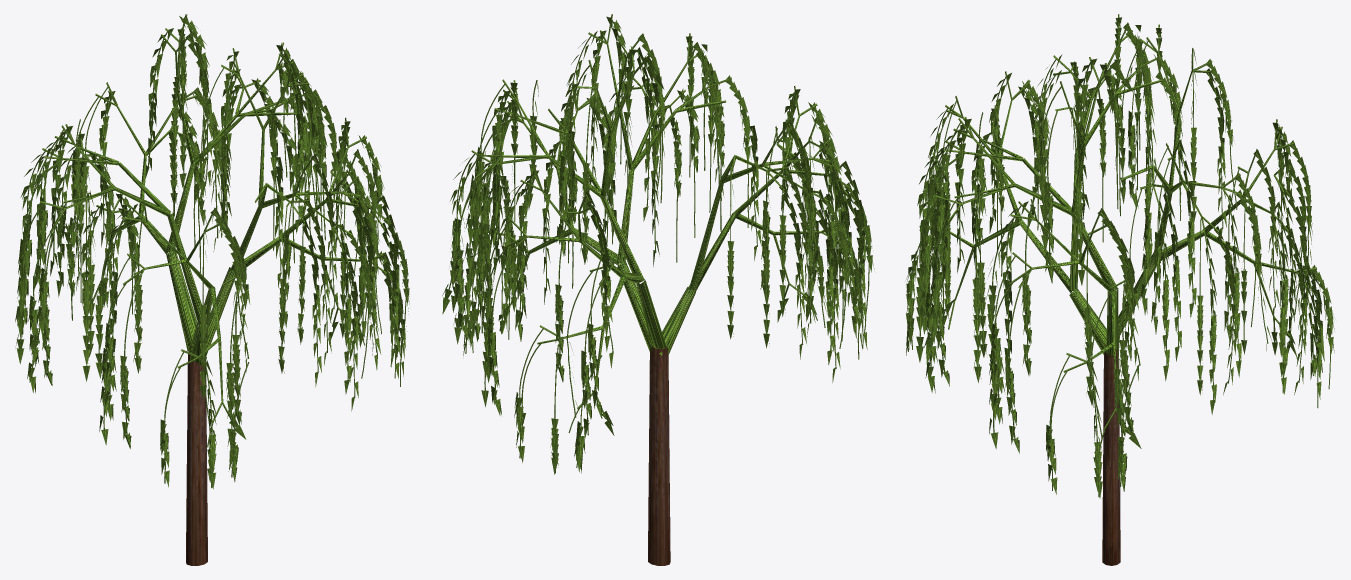
Rendered from cay-duong-04.glb.
3 renders of one model, left to right at view 1: azimuth 30°, elevation 25°; view 2: azimuth 150°, elevation 25°; view 3: azimuth 270°, elevation 25°, orthographic. The views are drawn at different scales.
Bounding box in the file's own units: 2.75 × 3.59 × 2.65.
1 material, 1 textured.
